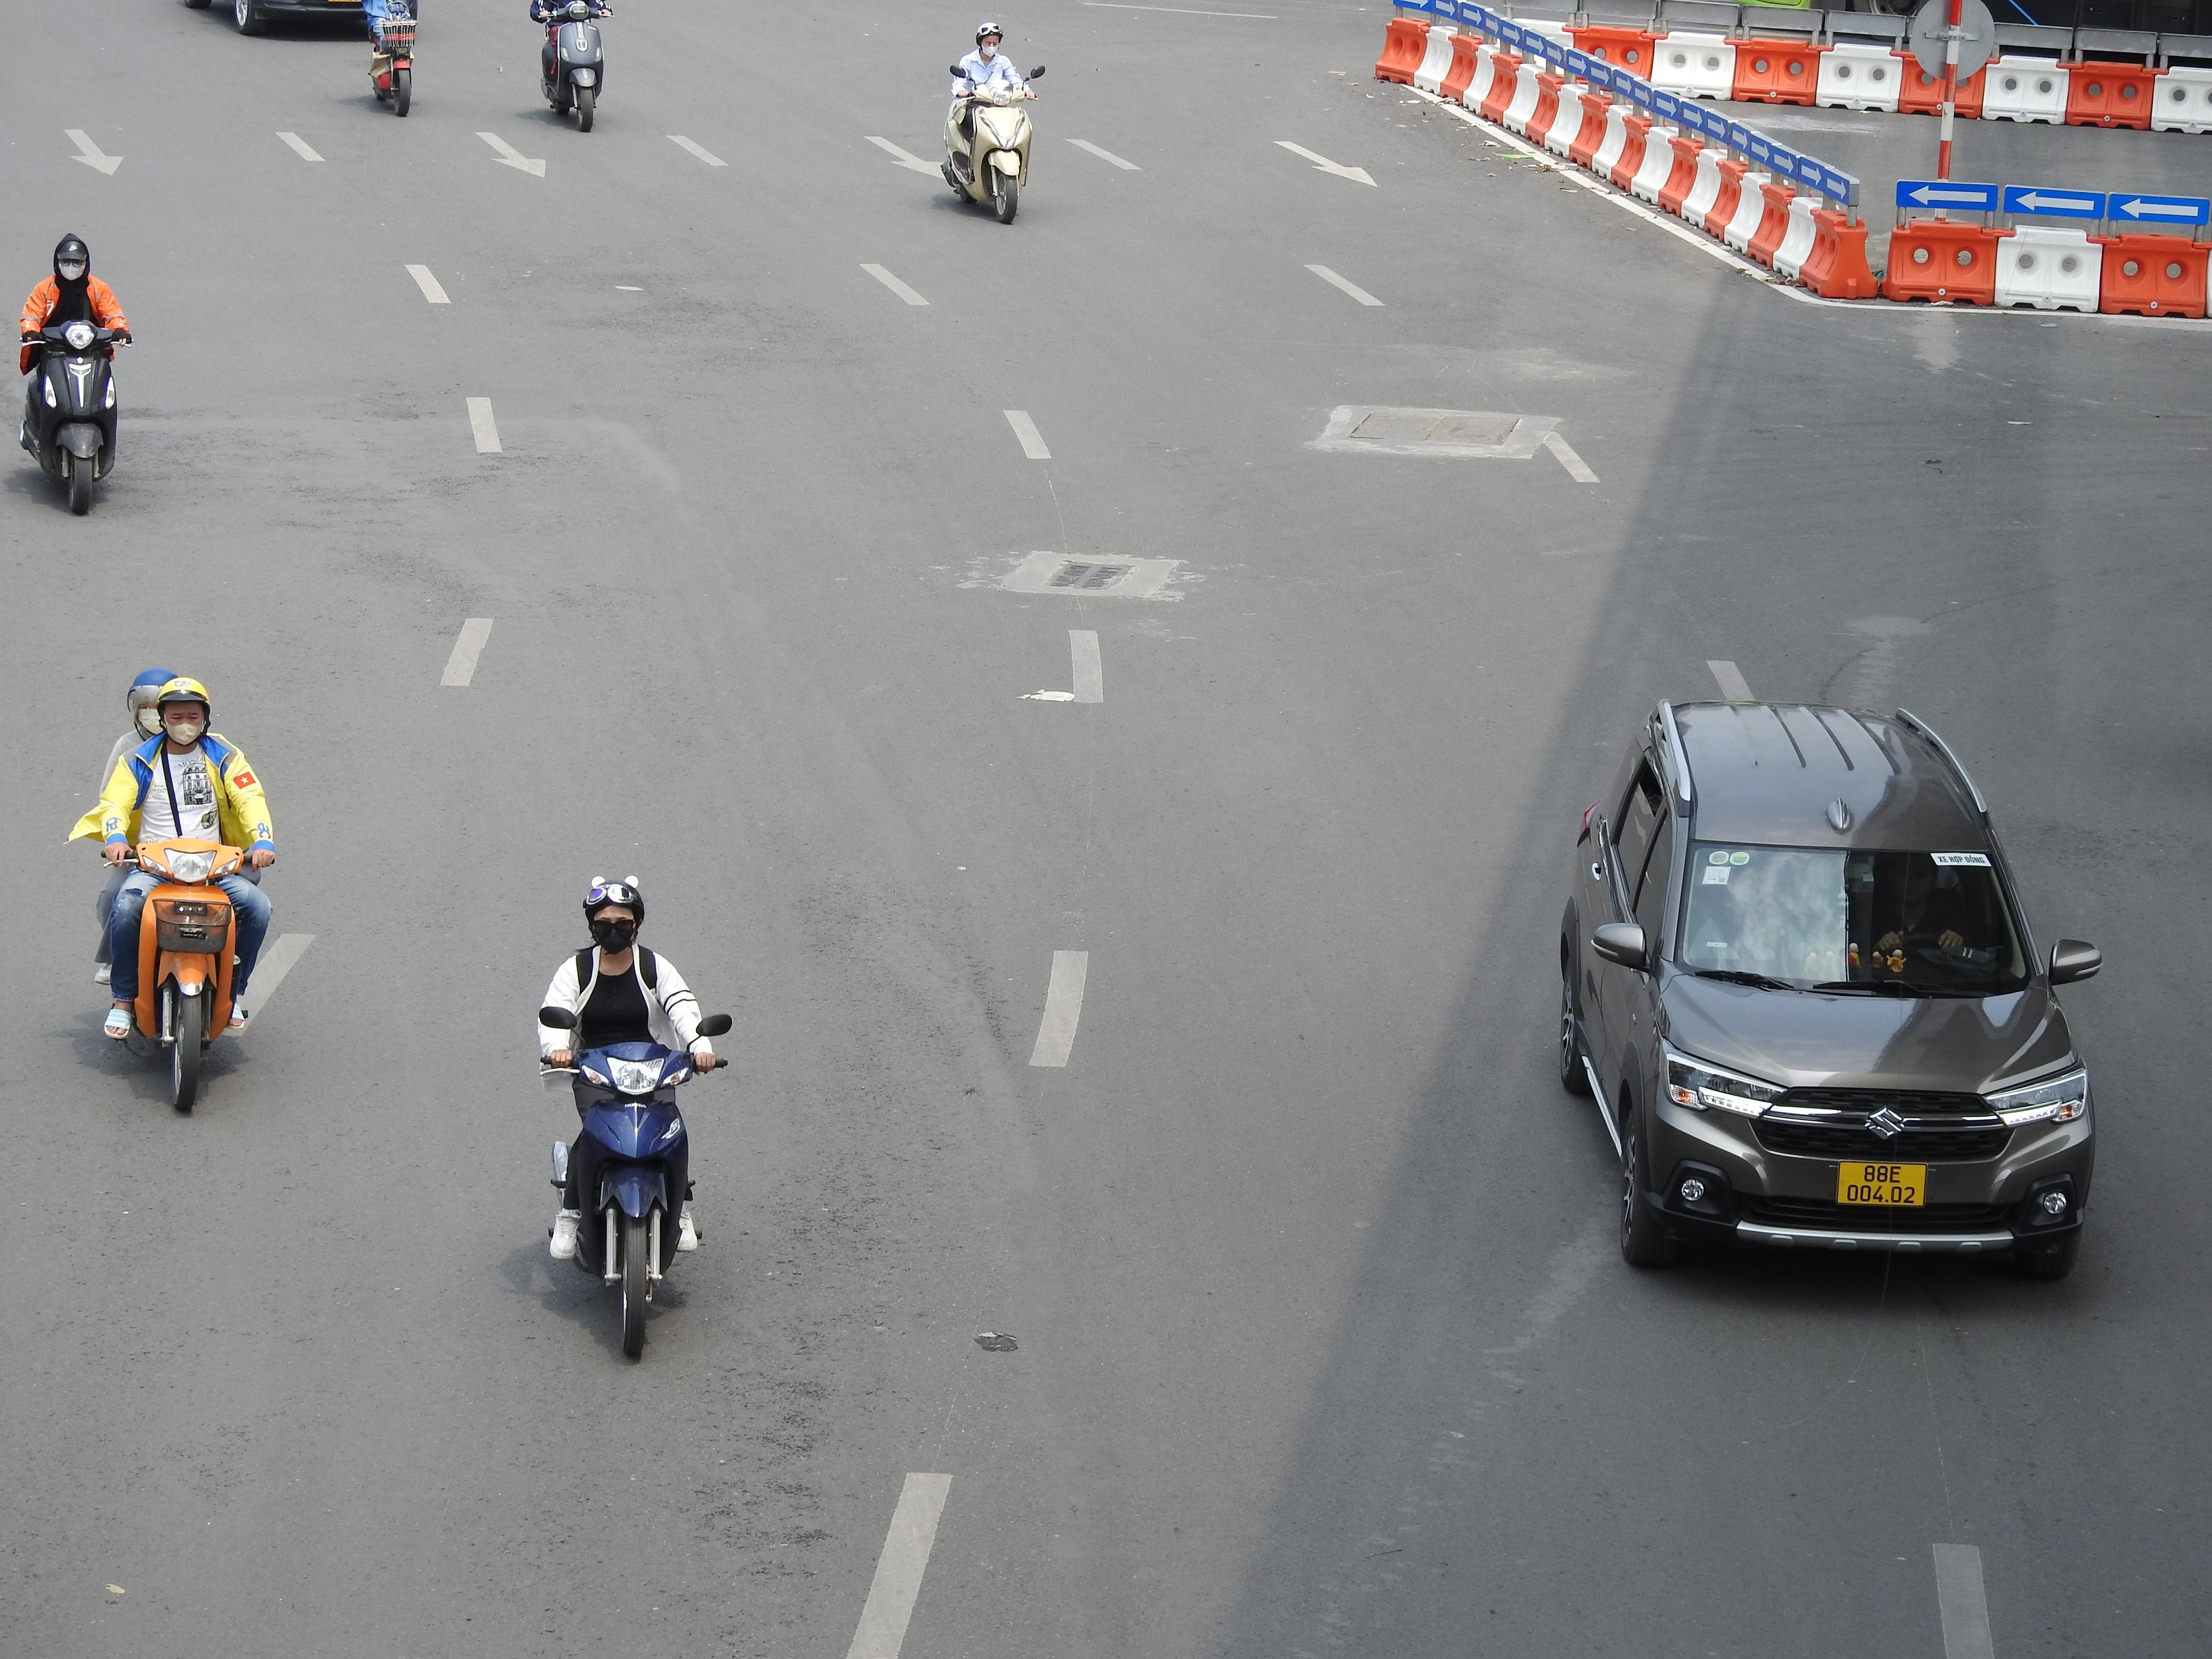BSV: (1836, 1161, 1926, 1206)
car: (1552, 695, 2104, 1281)
motorbike: (538, 875, 730, 1364), (87, 667, 275, 1119), (17, 234, 129, 518), (941, 21, 1040, 225), (531, 0, 611, 132), (361, 0, 421, 117)
